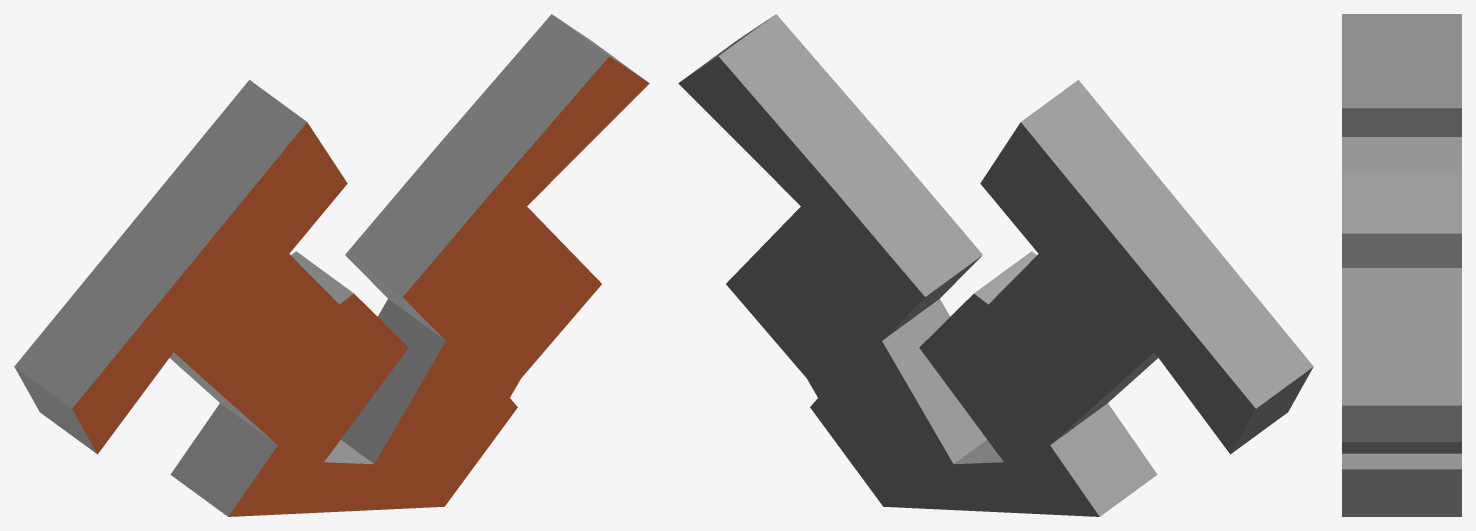
File: construction_1082_assumed_A_Casa_h6m.obj
The picture shows the model from 3 angles, left to right: view 1: azimuth 30°, elevation 25°; view 2: azimuth 150°, elevation 25°; view 3: azimuth 270°, elevation 25°; orthographic projection. The views are drawn at different scales.
Visible parts, largest first — view 1: construction_1082_assumed_A_Casa; view 2: construction_1082_assumed_A_Casa; view 3: construction_1082_assumed_A_Casa.
Boxes of the visible parts, left/top/right/bottom form: construction_1082_assumed_A_Casa: left=14, top=14, right=649, bottom=516; construction_1082_assumed_A_Casa: left=678, top=14, right=1313, bottom=516; construction_1082_assumed_A_Casa: left=1342, top=14, right=1461, bottom=516.
Size of the model in its own units: 34.63 by 23.96 by 6.
